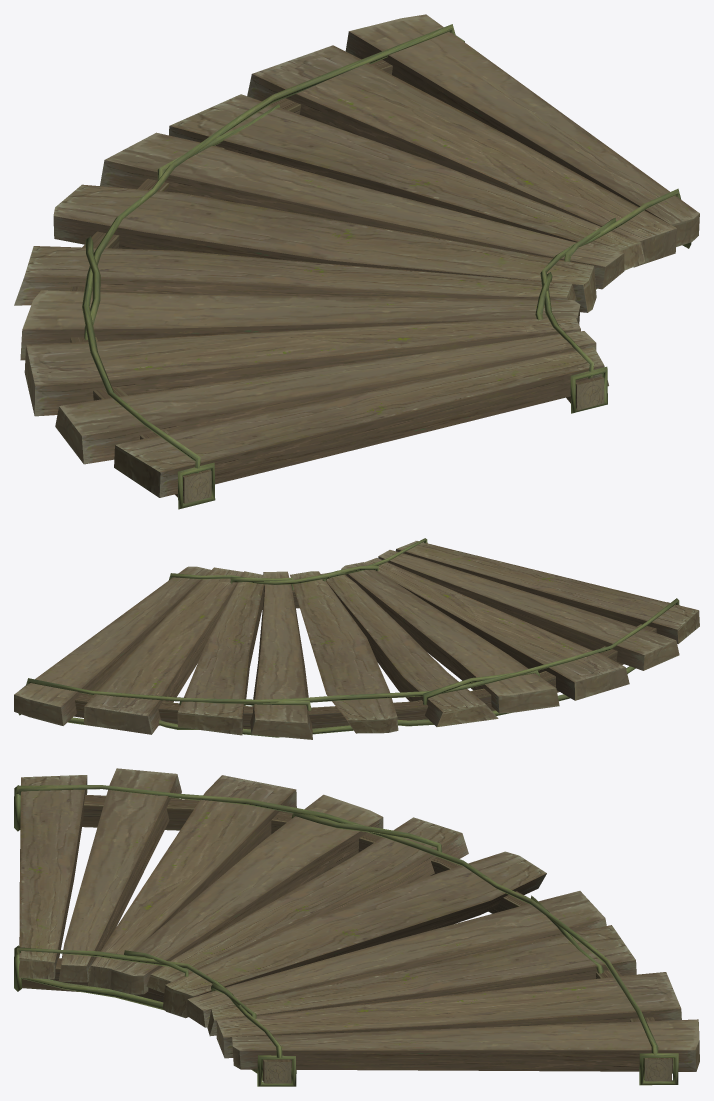
The model's file is Homeworld_Exterior_Xm_Rockery_Bridge_Qiao_02_Vo.fbx.
The picture shows the model from 3 angles, top to bottom: view 1: azimuth 30°, elevation 25°; view 2: azimuth 150°, elevation 25°; view 3: azimuth 270°, elevation 25°; orthographic projection. The views are drawn at different scales.
Visible parts, largest first — view 1: Homeworld_Exterior_Xm_Rockery_Bridge_Qiao_02_Vo; view 2: Homeworld_Exterior_Xm_Rockery_Bridge_Qiao_02_Vo; view 3: Homeworld_Exterior_Xm_Rockery_Bridge_Qiao_02_Vo.
Part boxes in pixels (x1=…): Homeworld_Exterior_Xm_Rockery_Bridge_Qiao_02_Vo: x1=14, y1=14, x2=699, y2=509; Homeworld_Exterior_Xm_Rockery_Bridge_Qiao_02_Vo: x1=14, y1=538, x2=699, y2=739; Homeworld_Exterior_Xm_Rockery_Bridge_Qiao_02_Vo: x1=14, y1=768, x2=699, y2=1086.
Bounding box in the file's own units: 5.36 × 0.4203 × 5.45.
